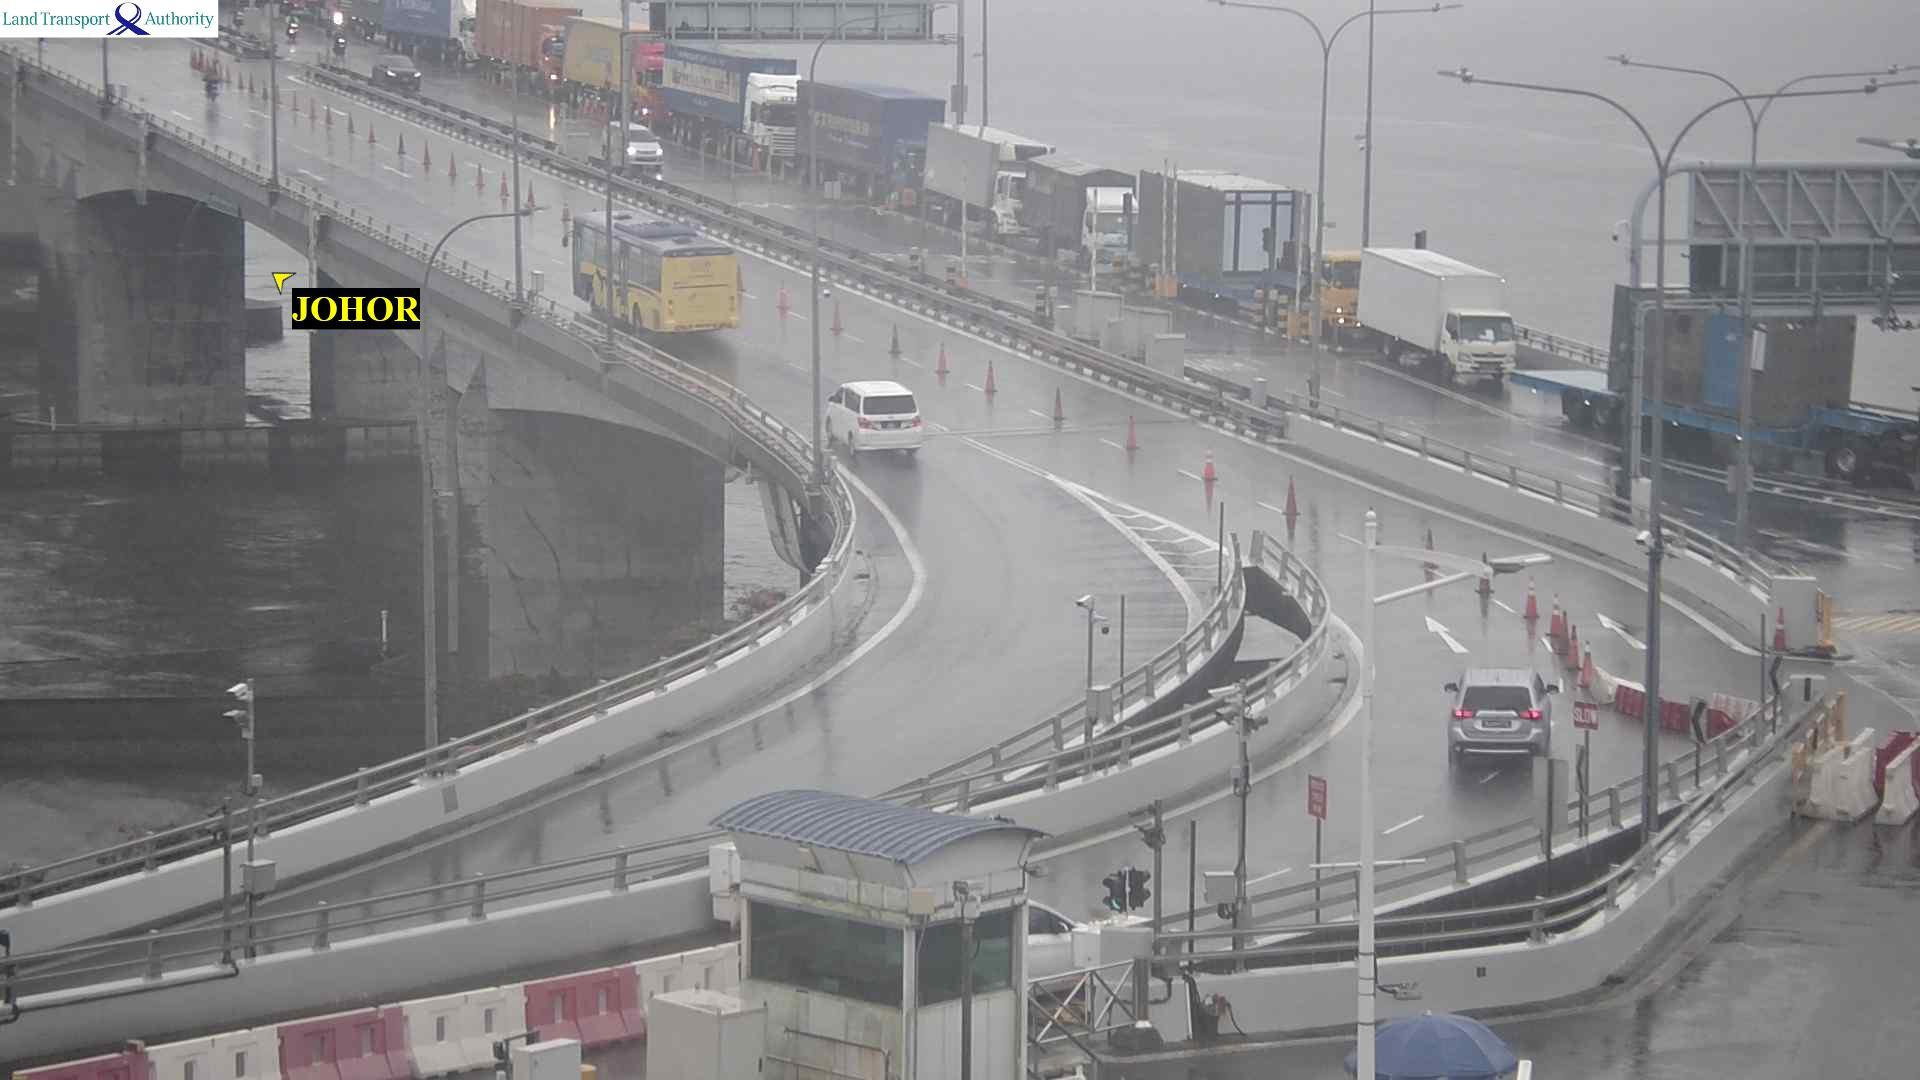vehicle-secondlink-johor: (575, 207, 737, 339), (1447, 671, 1569, 764), (828, 377, 922, 458), (206, 70, 224, 111)
vehicle-secondlink-singapore: (1362, 251, 1552, 394), (802, 80, 945, 199), (930, 125, 1058, 251), (658, 44, 810, 113), (551, 16, 671, 100), (476, 0, 584, 92), (1818, 402, 1920, 497), (1029, 171, 1134, 253), (386, 4, 479, 58), (1319, 255, 1358, 347), (601, 125, 670, 161), (373, 53, 418, 90), (286, 20, 299, 38), (334, 30, 340, 51)
